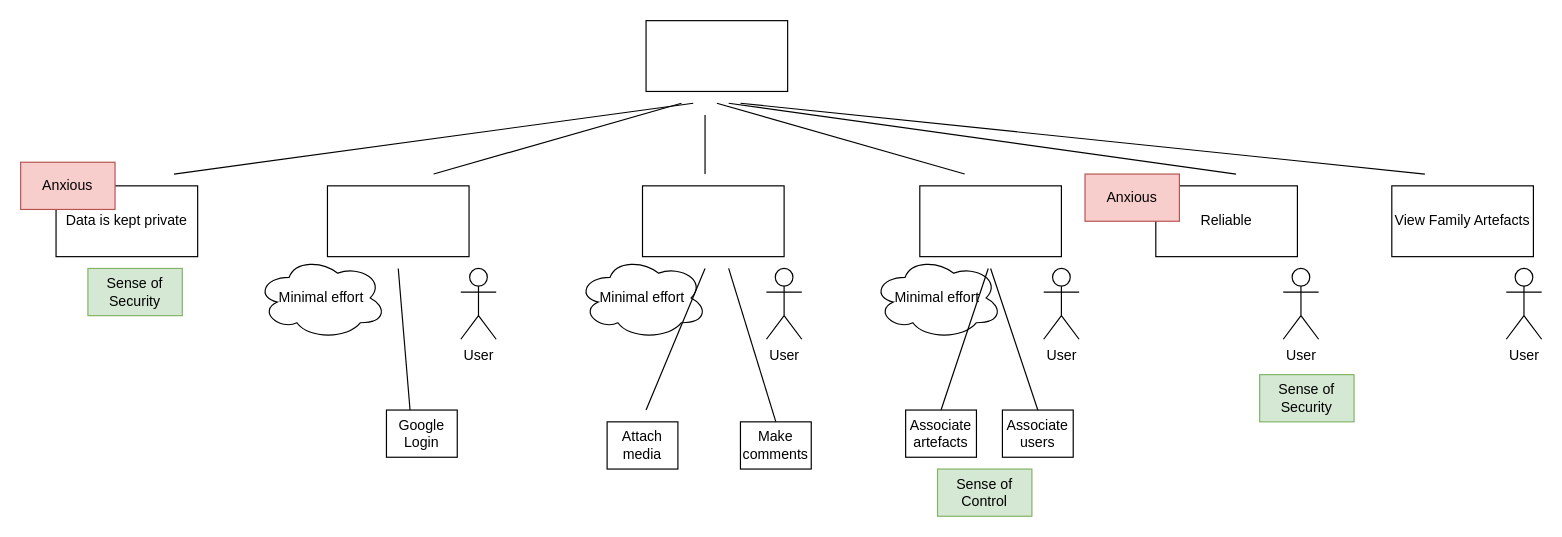
Some shapes in this 1562 by 537 pixel diagram are drawn without their labels. The centre of each missing label's shape, as x and y in pixels:
"Connect with related Users" goes at (x=990, y=221).
"Create Account" goes at (x=397, y=221).
"Create Artefacts" goes at (x=712, y=221).
"Easily Manage Personal Artefacts" goes at (x=716, y=55).
